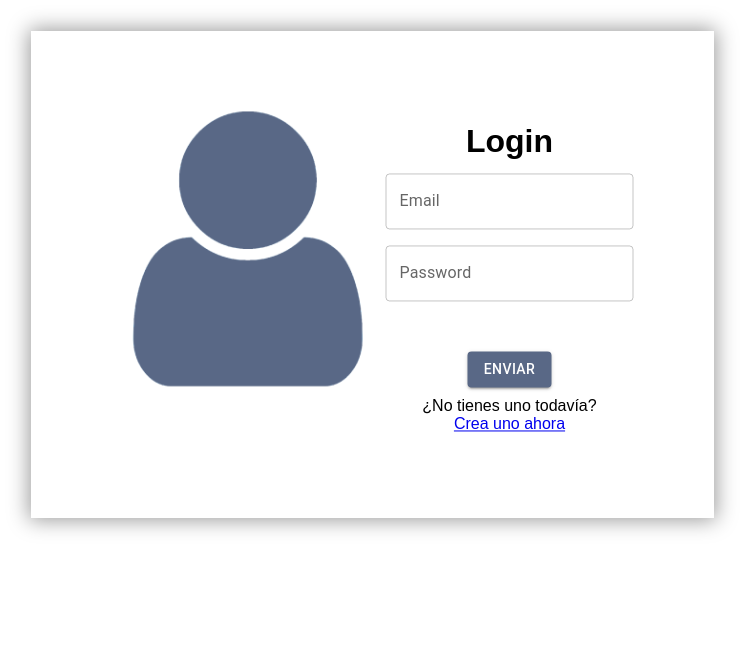
check that we dont have any product in the cart
Check: the heading "Login" is shown, box left=466, top=124, right=553, bottom=160
Check: the text "¿No tienes uno todavía?" is shown, box left=422, top=398, right=597, bottom=415
Click the button "Enviar" at [510, 369], box left=468, top=351, right=551, bottom=388
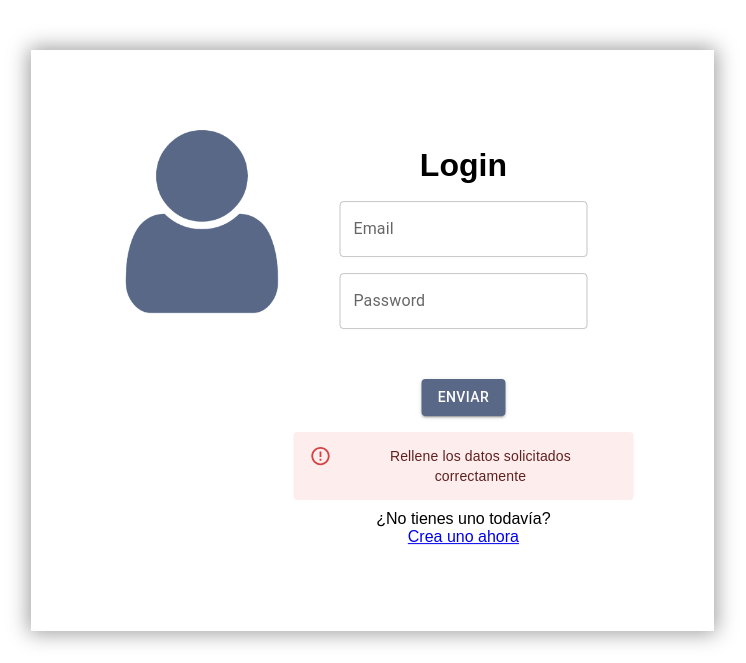
Check: the text "Rellene los datos solicitados correctamente" is shown, box left=390, top=448, right=571, bottom=484
